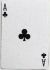ace: (1, 1, 48, 69)
